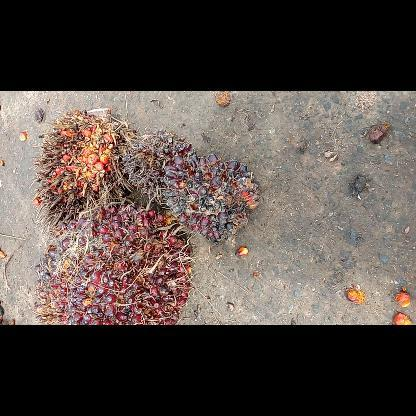TBS abnormal: (160, 150, 262, 248), (121, 128, 199, 204)
TBS masak: (33, 202, 195, 324)
Terlalu masak: (29, 104, 136, 234)
